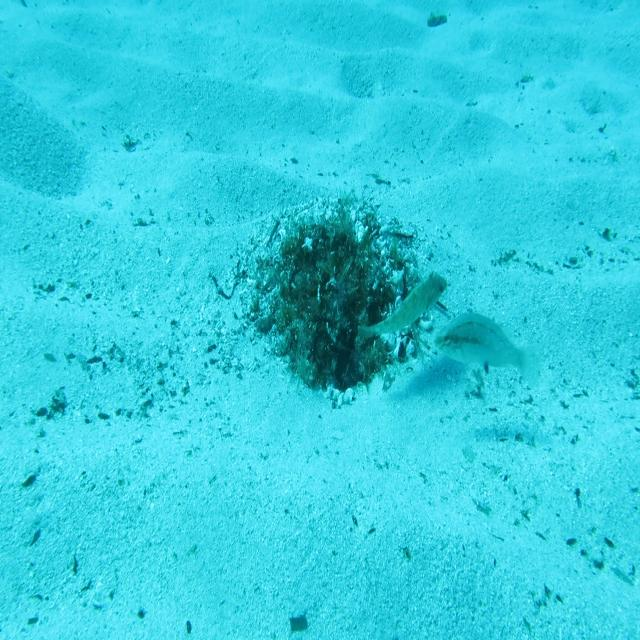ROLL: (355, 267, 449, 342)
core_nest: (307, 232, 355, 282)
female: (432, 308, 545, 393)
nest: (227, 178, 446, 425)
vegetation: (427, 6, 449, 31), (288, 612, 308, 631)
